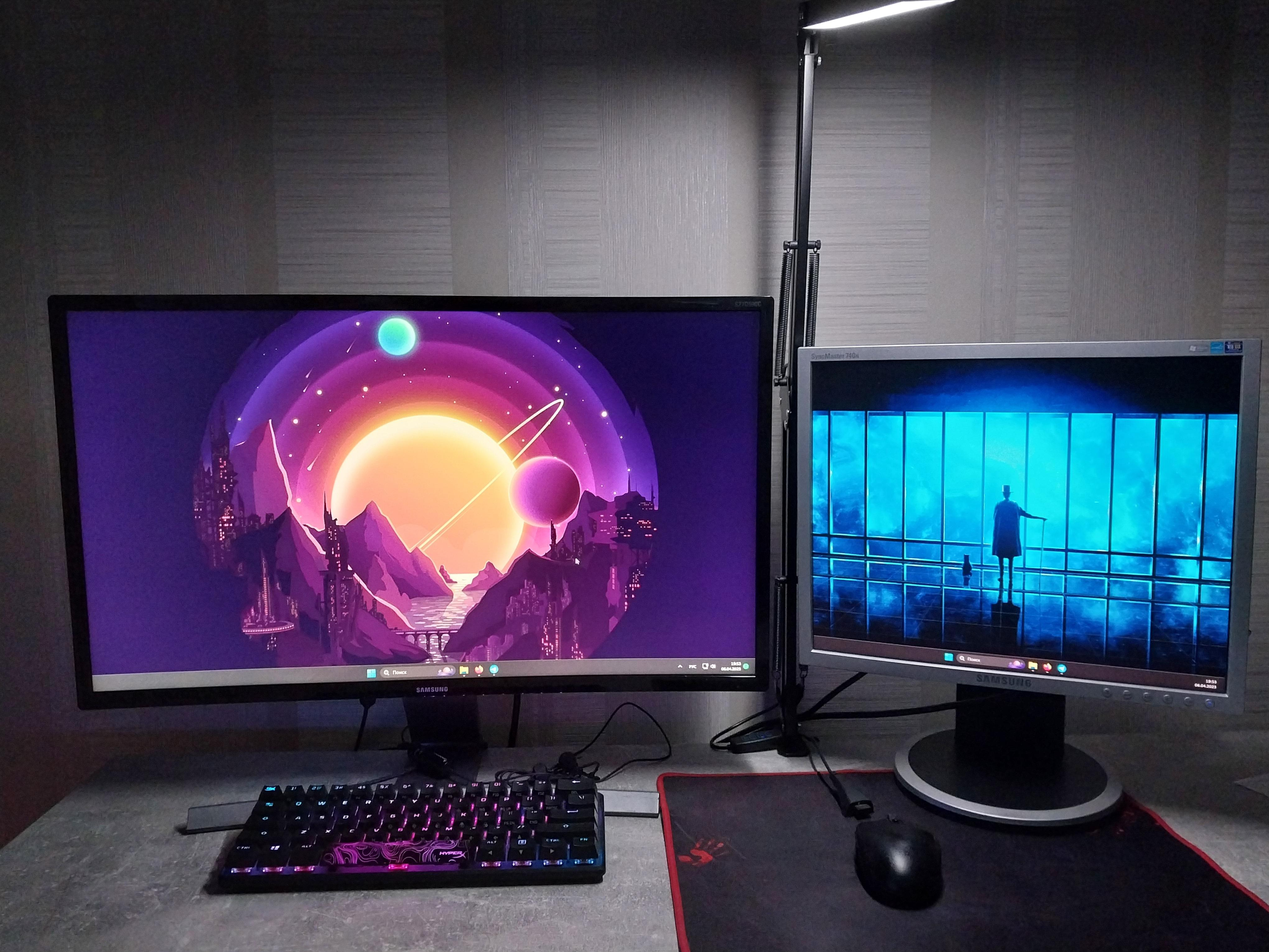monitor: (44, 291, 774, 712), (786, 334, 1263, 723)
